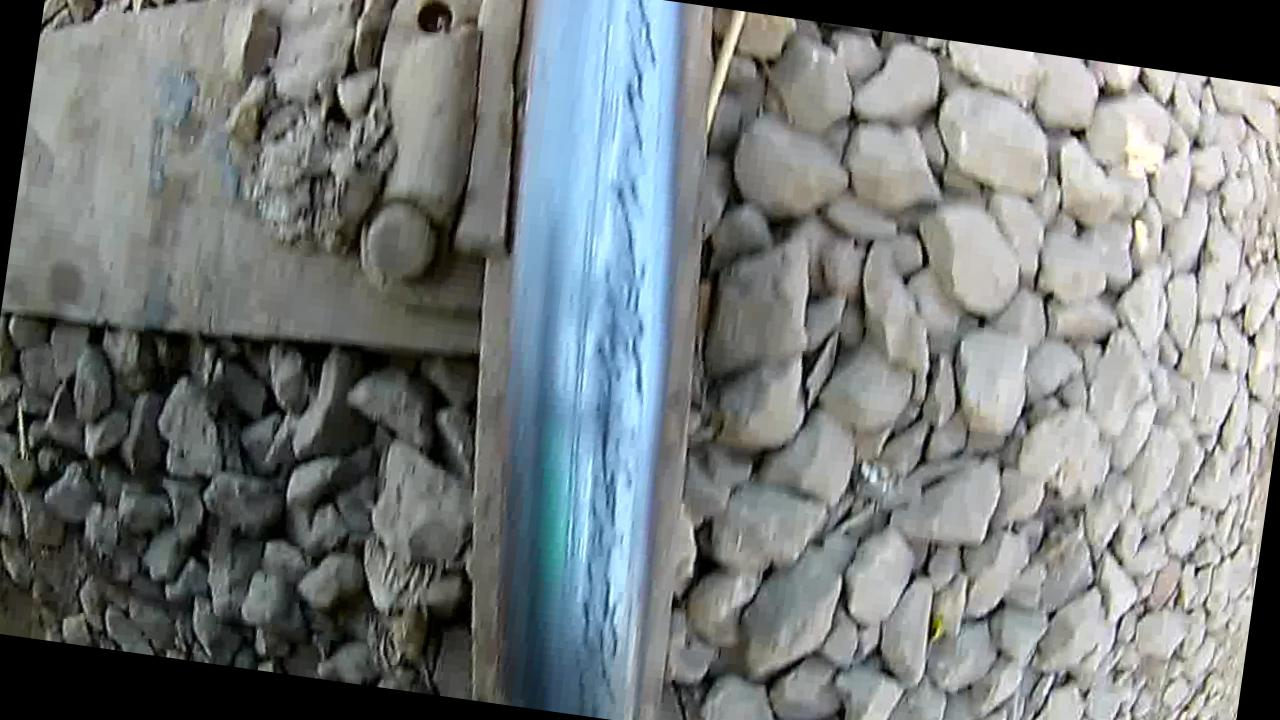normal_track: (513, 0, 722, 719)
